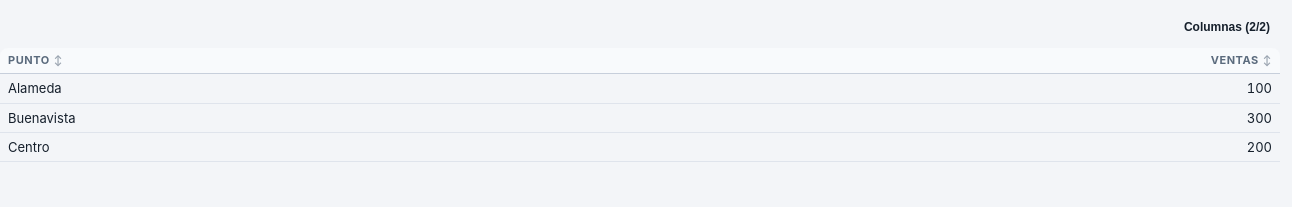
Test: DataTable › ordena por columna, oculta columnas y muestra detalle
The width and height of the screenshot is (1292, 207).
Click the column heading "Ventas". click: (972, 61)
box: [664,48,1280,74]
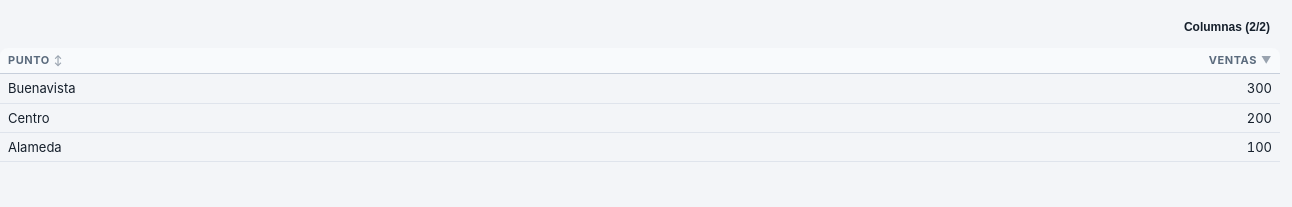
Click the column heading "Ventas". click: (968, 61)
box: [657,48,1280,74]
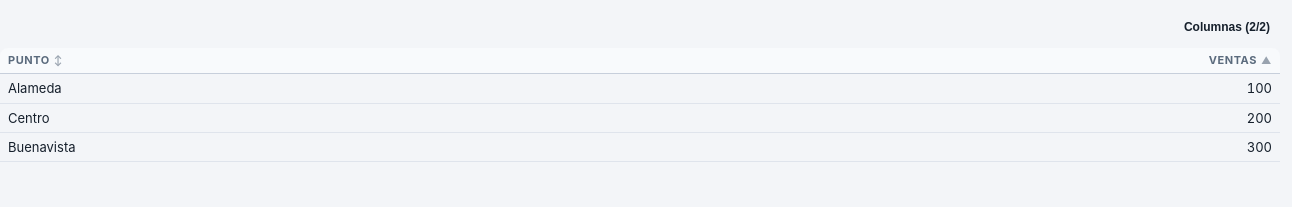
Click the button with test id "col-picker" showing "Columnas (2/2)". click: (1227, 27)
box: [1174,12,1280,42]
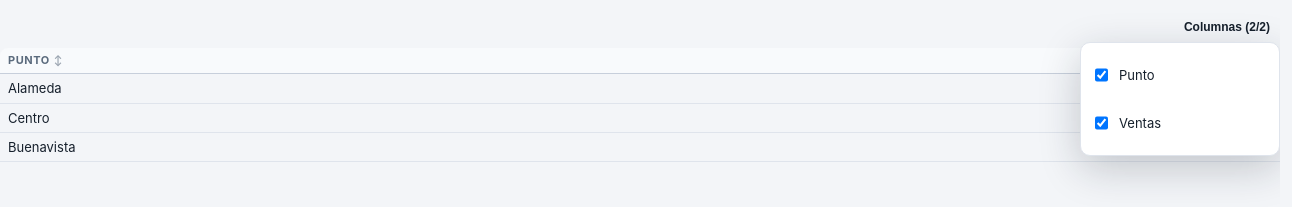
Click the checkbox labelled "Ventas". click: (1102, 123)
box: [1095,105,1108,141]
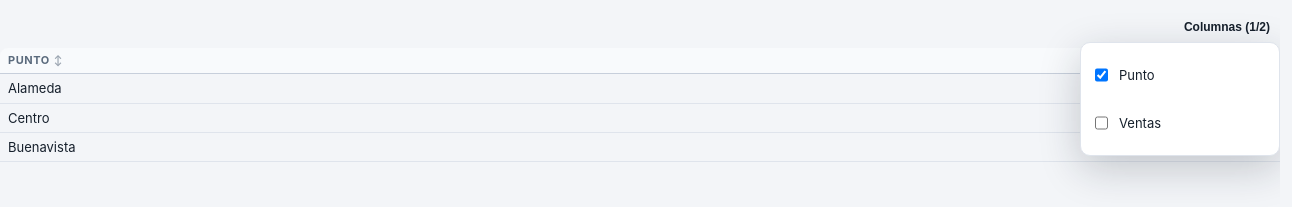
expect the text "300" is not shown: met
Click the text "Centro". click: (640, 118)
box: [0,104,1280,133]
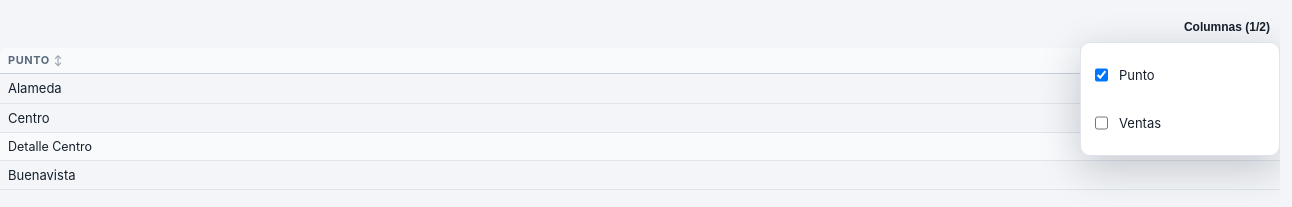
expect the text "Detalle Centro" is shown: met, box [8,139,92,154]
